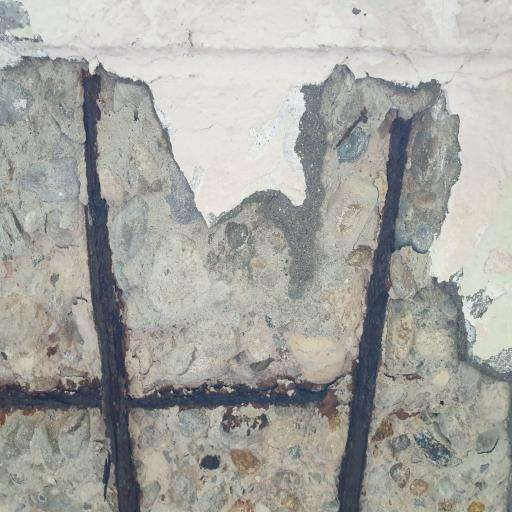exposed_rebar: (83, 73, 326, 510), (338, 116, 412, 510), (82, 71, 139, 512), (0, 391, 98, 409)
spalling: (0, 58, 512, 512)
